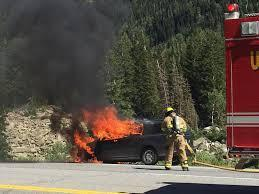fire: (68, 103, 141, 163)
